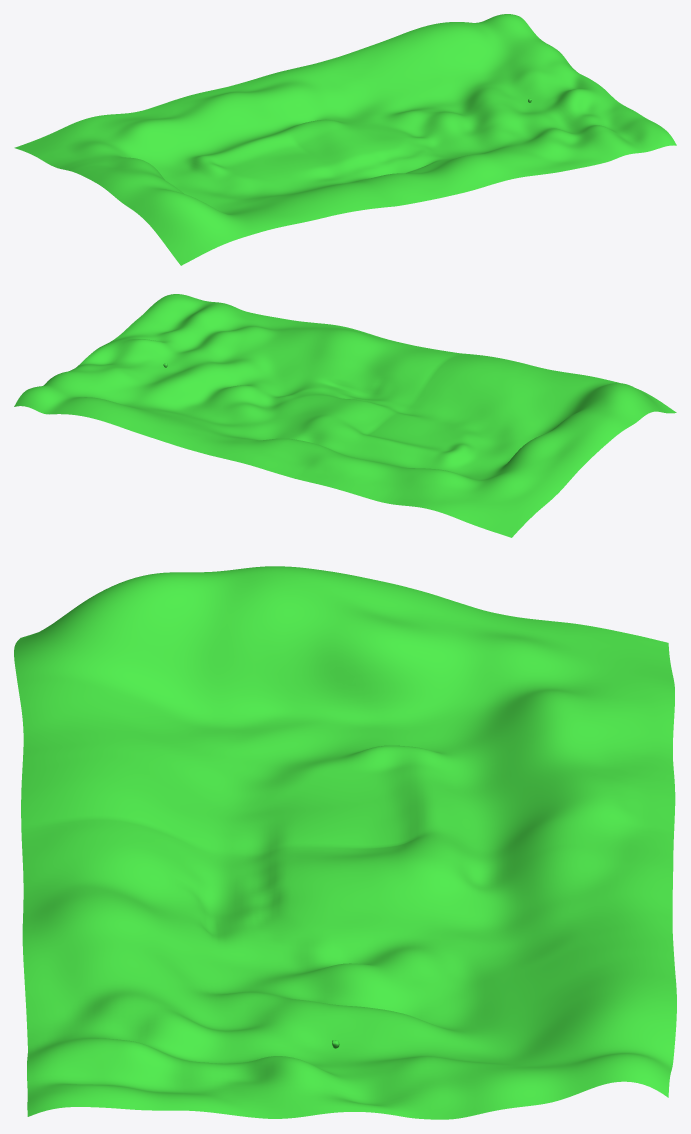
The model's file is ground.fbx.
The picture shows the model from 3 angles, top to bottom: view 1: azimuth 30°, elevation 25°; view 2: azimuth 150°, elevation 25°; view 3: azimuth 270°, elevation 25°; orthographic projection. The views are drawn at different scales.
Parts seen in each view (by area): view 1: ground; view 2: ground; view 3: ground.
Boxes of the visible parts, <box> form: ground: <box>14,14,676,265</box>; ground: <box>14,294,676,537</box>; ground: <box>14,566,676,1119</box>.
Bounding box in the file's own units: 108509 × 10754 × 62390.
